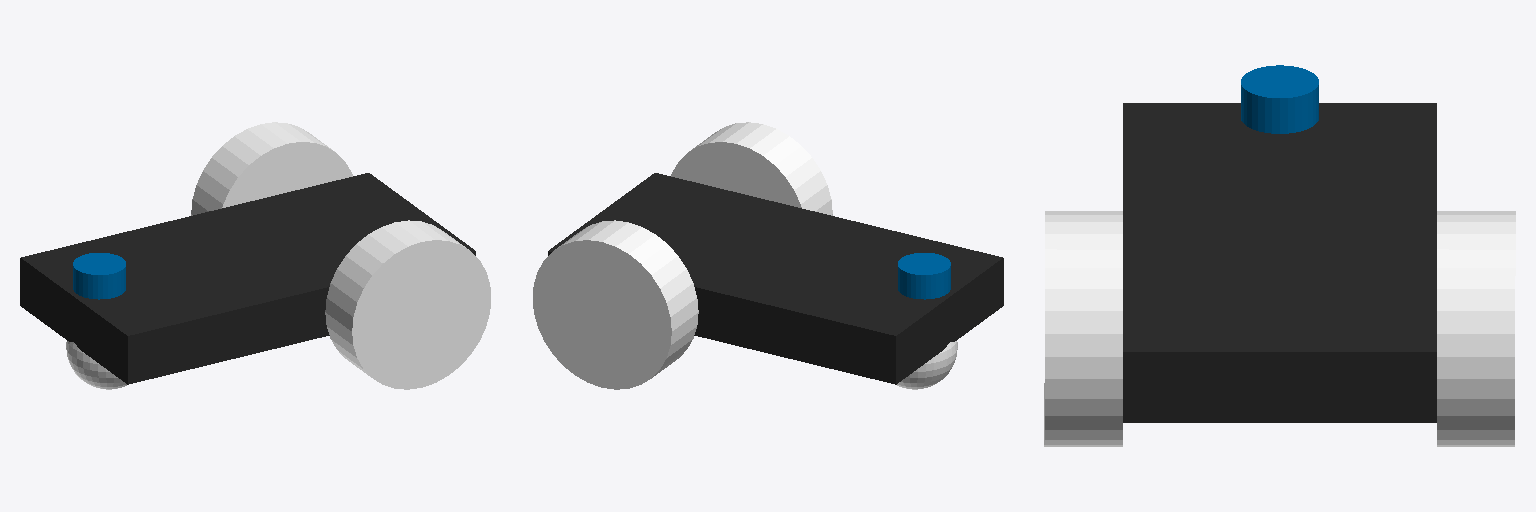
robot.urdf — explorer:
<?xml version="1.0" ?>
  <robot name="explorer">
  <link name="base_footprint">
    <visual>
      <geometry>
          <box size="0.75 0.4 0.1"/>
      </geometry>
      <material name="gray">
        <color rgba=".2 .2 .2 1" />
      </material>
    </visual>
  <inertial>
            <mass value="1" />
            <inertia ixx="0.01" ixy="0.0" ixz="0" 
            iyy="0.01" iyz="0" izz="0.01" />
    </inertial>
    <collision>
      <geometry>
          <box size="0.75 0.4 0.1"/>
      </geometry>
      
    </collision>
  </link>

  <link name="wheel_right_link">
    <inertial>
            <mass value="2" />
            <inertia ixx="0.01" ixy="0.0" ixz="0" 
            iyy="0.01" iyz="0" izz="0.01" />
    </inertial>

    <visual>
      
      <geometry>
          <cylinder radius="0.15" length="0.1"/>
      </geometry>
      <material name="white">
        <color rgba="1 1 1 1"/>
      </material>
    </visual>

    <collision>
    
      <geometry>
          <cylinder radius="0.15" length="0.1"/>
      </geometry>
      <surface>
        <friction>
          <ode>
            <mu>0</mu>
            <mu2>0</mu2>
            <slip1>1.0</slip1>
            <slip2>1.0</slip2>
          </ode>
        </friction>
      </surface>
      <contact_coefficients mu="1" kp="1e+13" kd="1.0"/>
    </collision>
  </link>

  <joint name="wheel_right_joint" type="continuous">
    <origin xyz="0.2 0.25 0.0" rpy="1.57 0.0 0.0"/>
    <parent link="base_footprint"/>
    <child link="wheel_right_link"/>
    <axis xyz="0.0 0.0 1.0"/>
  </joint>

  <link name="wheel_left_link">
    <inertial>
            <mass value="2" />
            <inertia ixx="0.01" ixy="0.0" ixz="0" 
            iyy="0.01" iyz="0" izz="0.01" />
    </inertial>

    <visual>
      
      <geometry>
          <cylinder radius="0.15" length="0.1"/>
      </geometry>
      <material name="white">
        <color rgba="1 1 1 1"/>
      </material>
    </visual>

    <collision>
      <geometry>
          <cylinder radius="0.15" length="0.1"/>
      </geometry>
      <surface>
        <friction>
          <ode>
            <mu>0</mu>
            <mu2>0</mu2>
            <slip1>1.0</slip1>
            <slip2>1.0</slip2>
          </ode>
        </friction>
      </surface>
      <contact_coefficients mu="1" kp="1e+13" kd="1.0"/>
    </collision>
  </link>

  <joint name="wheel_left_joint" type="continuous">
    <origin xyz="0.2 -0.25 0.0" rpy="1.57 0.0 0.0"/>
    <parent link="base_footprint"/>
    <child link="wheel_left_link"/>
    <axis xyz="0.0 0.0 1.0"/>

  </joint>



  <link name="caster">
    <inertial>
            <mass value="1" />
            <inertia ixx="0.01" ixy="0.0" ixz="0" 
            iyy="0.01" iyz="0" izz="0.01" />
    </inertial>

    <visual>
    
      <geometry>
        <sphere radius=".08" />
      </geometry>
      <material name="white" />
    </visual>

    <collision>
      <geometry>
        <sphere radius=".08" />
      </geometry>
      <surface>
        <friction>
          <ode>
            <mu>0</mu>
            <mu2>0</mu2>
            <slip1>1.0</slip1>
            <slip2>1.0</slip2>
          </ode>
        </friction>
      </surface>
    </collision>
  </link>

  <joint name="caster_joint" type="continuous">
    <origin xyz="-0.3 0.0 -0.07" rpy="0.0 0.0 0.0"/>
    <axis xyz="0 0 1" />
    <parent link="base_footprint"/>
    <child link="caster"/>
  </joint>

  <!-- laser -->
  <link name="laser">
    <inertial>
            <mass value="1" />
            <inertia ixx="0.01" ixy="0.0" ixz="0" 
            iyy="0.01" iyz="0" izz="0.01" />
    </inertial>

    <visual>
    
      <geometry>
        <cylinder radius="0.05" length="0.05"/> 
       </geometry>
    </visual>

    <collision>
      <origin/>
      <geometry>
        <sphere radius=".08" />
      </geometry>
    </collision>
  </link>

  <joint name="laser_joint" type="fixed">
    <origin xyz="-0.32 0.0 0.08" rpy="0.0 0.0 3.14"/>
    <axis xyz="0 0 1" />
    <parent link="base_footprint"/>
    <child link="laser"/>
  </joint>



<!-- Gazebo colors to links as upper defined colors are only visible in RVIZ-->
<gazebo reference="base_footprint">
  <material>Gazebo/Orange</material>
</gazebo>
<gazebo reference="caster">
  <material>Gazebo/Black</material>
</gazebo>

<gazebo reference="wheel_right_link">
  <material>Gazebo/Blue</material>
</gazebo>
<gazebo reference="wheel_left_link">
  <material>Gazebo/Blue</material>
</gazebo> 
<!-- DIFFENERNTIAL DRIVEEEEEEEEEEEEE -->

<gazebo>
  <plugin name="differential_drive_controller"
          filename="libgazebo_ros_diff_drive.so">
      <leftJoint>wheel_left_joint</leftJoint>
      <rightJoint>wheel_right_joint</rightJoint>
      <legacyMode>false</legacyMode>
      
      <robotbase_footprintFrame>base_footprint_link</robotbase_footprintFrame>
      <wheelSeparation>0.25</wheelSeparation>
      <wheelDiameter>0.07</wheelDiameter>
      <publishWheelJointState>true</publishWheelJointState>
  </plugin>
</gazebo>
 <gazebo>
  <plugin name="joint_state_publisher"
          filename="libgazebo_ros_joint_state_publisher.so">
      <jointName>caster_joint</jointName>
  </plugin>
</gazebo>
  
<!-- laser plugin -->\


<gazebo reference="laser">
  <sensor type="gpu_ray" name="laser">
      <pose>0 0 0 0 0 0</pose>
      <visualize>true</visualize>
      <update_rate>40</update_rate>
      <ray>
          <scan>
              <horizontal>
                  <samples>720</samples>
                  <resolution>1</resolution>
                  <min_angle>-1.578</min_angle>
                  <max_angle>1.578</max_angle>
              </horizontal>
          </scan>
          <range>
              <min>0.1</min>
              <max>30</max>
              <resolution>0.1</resolution>
          </range>
      </ray>
      <plugin name="gpu_laser" filename="libgazebo_ros_gpu_laser.so">
          <topicName>/scan</topicName>
          <frameName>laser</frameName>
      </plugin>
  </sensor>
</gazebo>

</robot>

--- Facts derived from the render (not from the file) ---
The picture shows the robot from 3 angles, left to right: view 1: azimuth 30°, elevation 25°; view 2: azimuth 150°, elevation 25°; view 3: azimuth 270°, elevation 25°; orthographic projection.
Model explorer with 5 links and 4 joints (3 continuous, 1 fixed), rooted at base_footprint, posed every joint at zero.
Visible links, largest first — view 1: base_footprint, wheel_left_link, wheel_right_link, laser, caster; view 2: base_footprint, wheel_right_link, wheel_left_link, laser, caster; view 3: base_footprint, wheel_right_link, wheel_left_link, laser.
Boxes of the visible links, x1=… form: base_footprint: x1=20, y1=173, x2=475, y2=384; wheel_left_link: x1=325, y1=220, x2=490, y2=389; wheel_right_link: x1=191, y1=122, x2=352, y2=215; laser: x1=73, y1=253, x2=125, y2=299; caster: x1=66, y1=341, x2=126, y2=389; base_footprint: x1=548, y1=173, x2=1003, y2=384; wheel_right_link: x1=533, y1=220, x2=698, y2=389; wheel_left_link: x1=671, y1=122, x2=832, y2=215; laser: x1=898, y1=253, x2=950, y2=299; caster: x1=897, y1=341, x2=957, y2=389; base_footprint: x1=1123, y1=103, x2=1436, y2=422; wheel_right_link: x1=1437, y1=211, x2=1515, y2=446; wheel_left_link: x1=1044, y1=211, x2=1122, y2=446; laser: x1=1241, y1=65, x2=1318, y2=133.
Size in the robot's own frame: 0.755 by 0.6002 by 0.3001 metres.
Geometry: primitives only (box / cylinder / sphere), no mesh files.